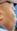without_mask: (1, 1, 17, 31)
